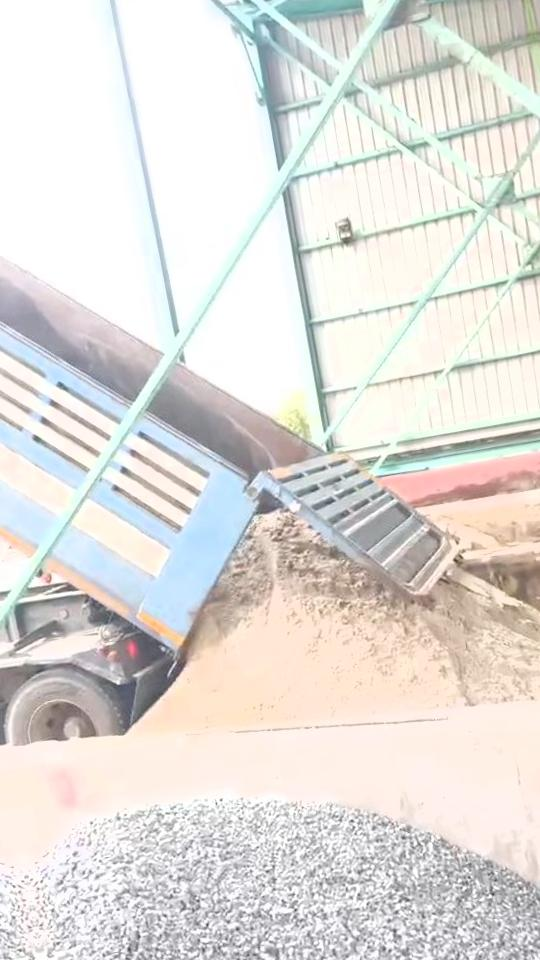gravel: (27, 798, 540, 960)
sand: (135, 512, 540, 731), (435, 516, 498, 550)
